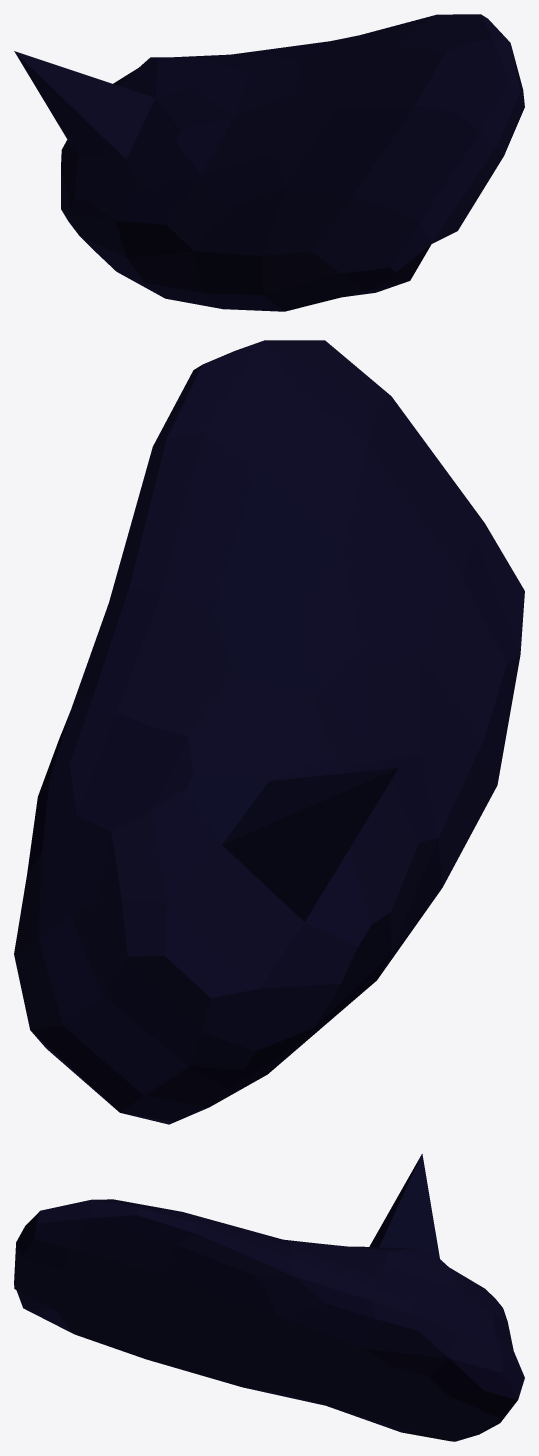
File: left_foot.obj
3 renders of one model, top to bottom at view 1: azimuth 30°, elevation 25°; view 2: azimuth 150°, elevation 25°; view 3: azimuth 270°, elevation 25°, orthographic. The views are drawn at different scales.
Visible parts, largest first — view 1: left_foot; view 2: left_foot; view 3: left_foot.
Boxes of the visible parts, <box> form: left_foot: <box>14,14,524,311</box>; left_foot: <box>14,340,524,1124</box>; left_foot: <box>14,1154,524,1441</box>.
Bounding box in the file's own units: 0.3524 × 0.3851 × 0.5884.
